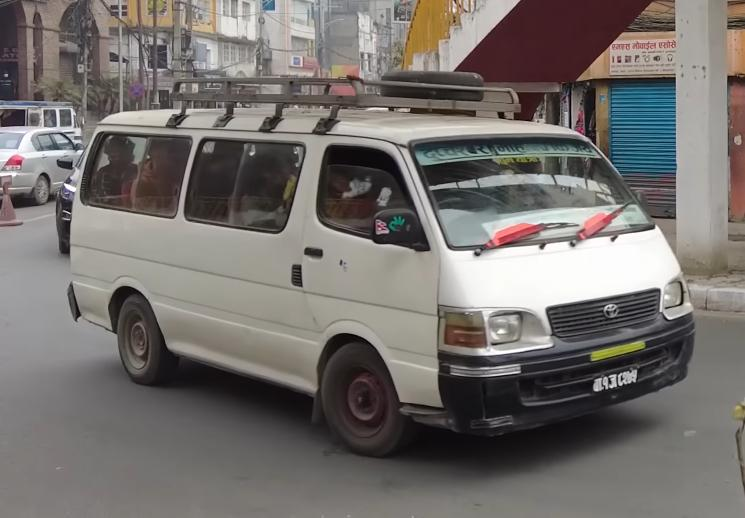car: (0, 124, 80, 205)
micro_bus: (49, 62, 702, 460)
